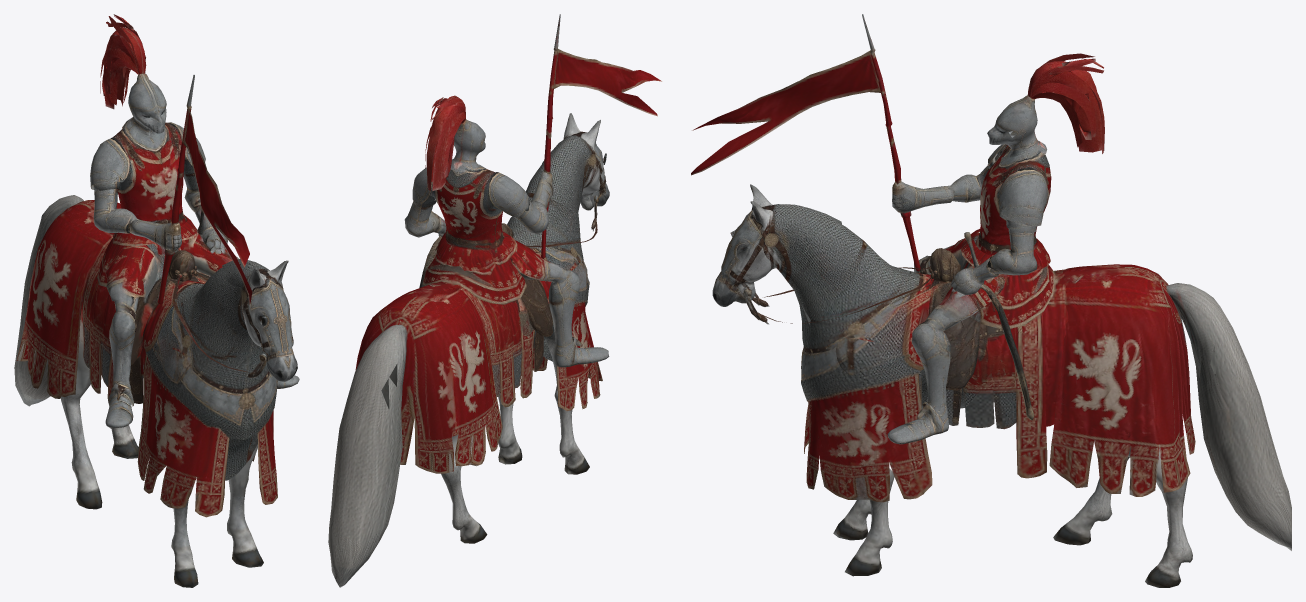
File: Meshy_AI_model.glb
3 views of the same model, side by side, from view 1: azimuth 30°, elevation 25°; view 2: azimuth 150°, elevation 25°; view 3: azimuth 270°, elevation 25° (orthographic). The views are drawn at different scales.
Bounding box in the file's own units: 0.3898 × 0.9731 × 1.
Materials: 1 (1 with a texture image).
